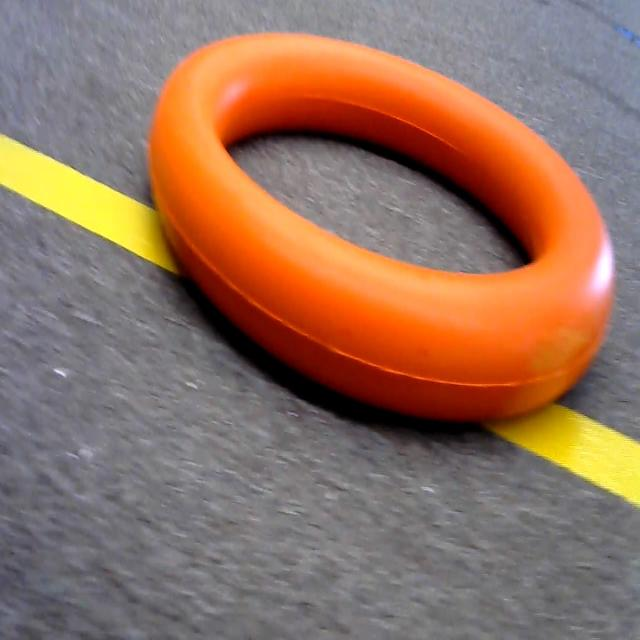note: (148, 24, 618, 437)
